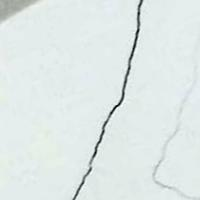crack: (73, 0, 148, 199)
